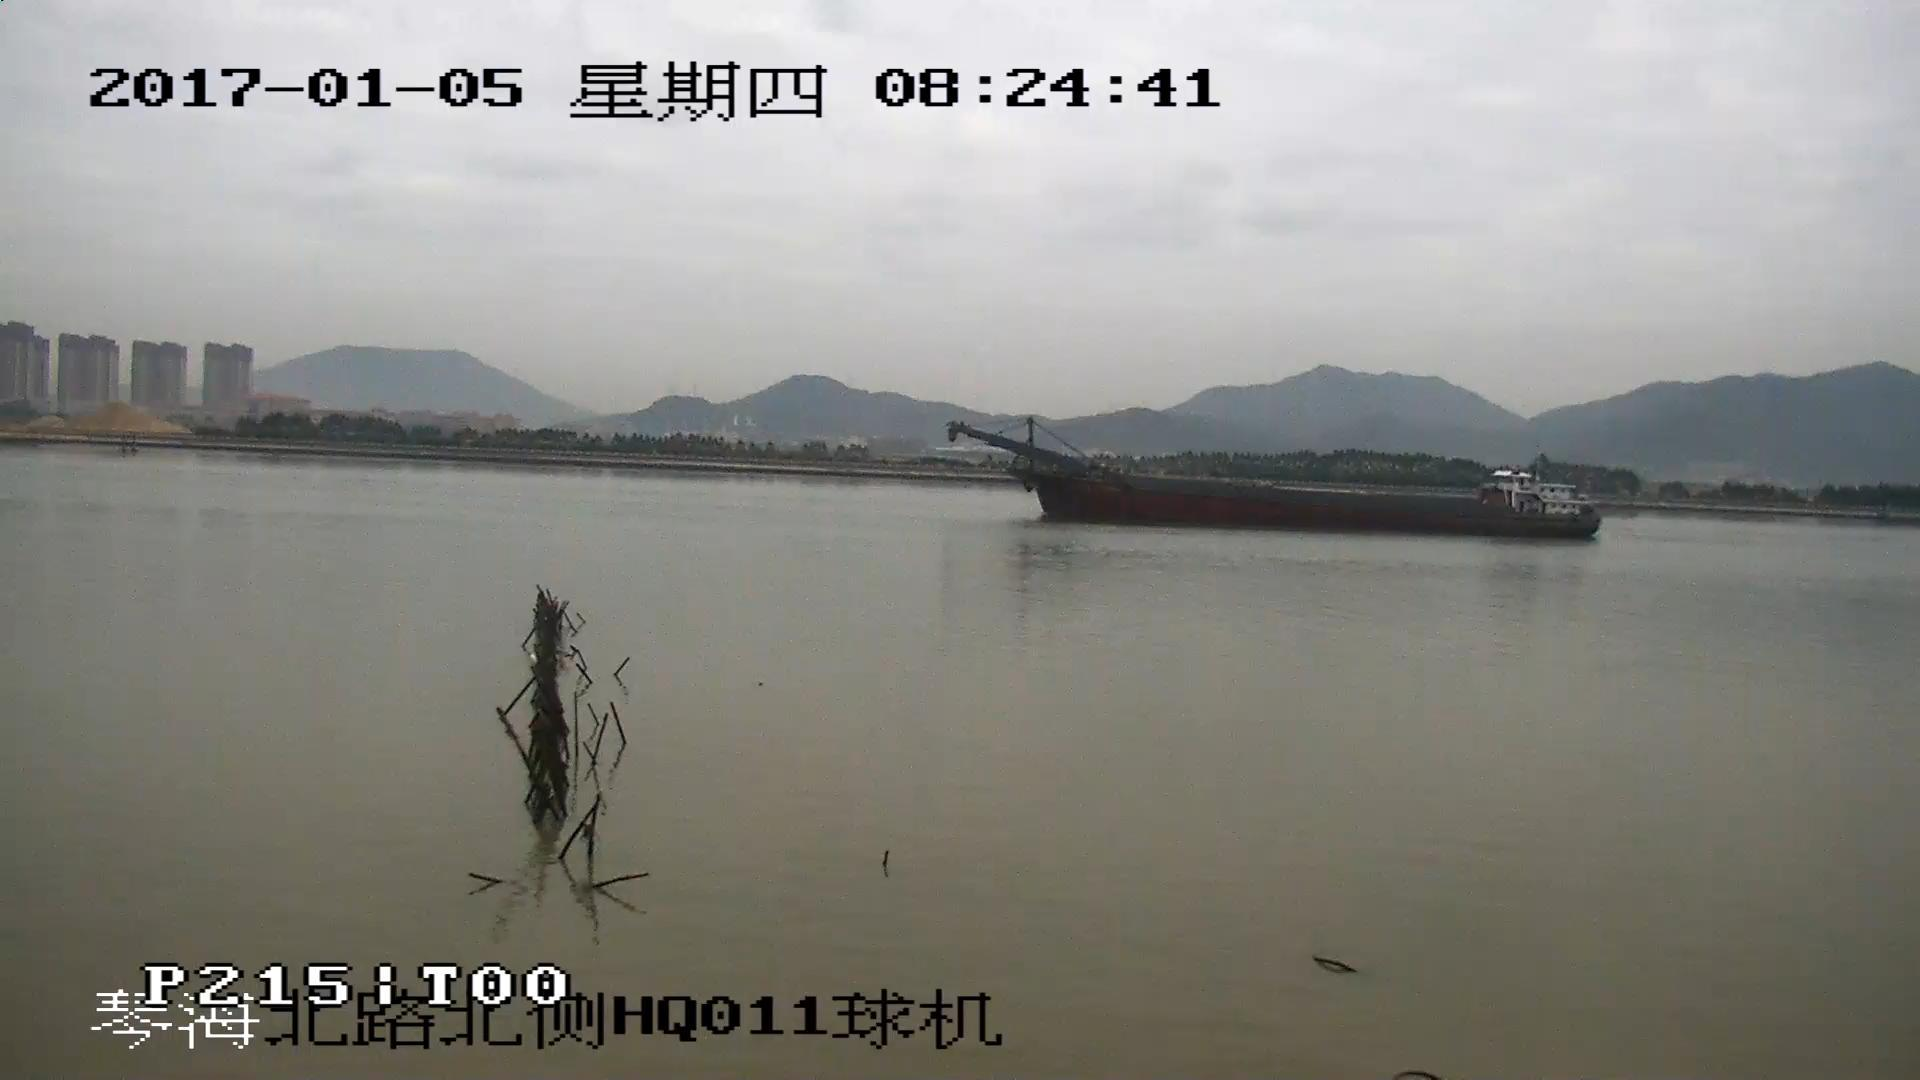Ship: (945, 421, 1601, 541)
